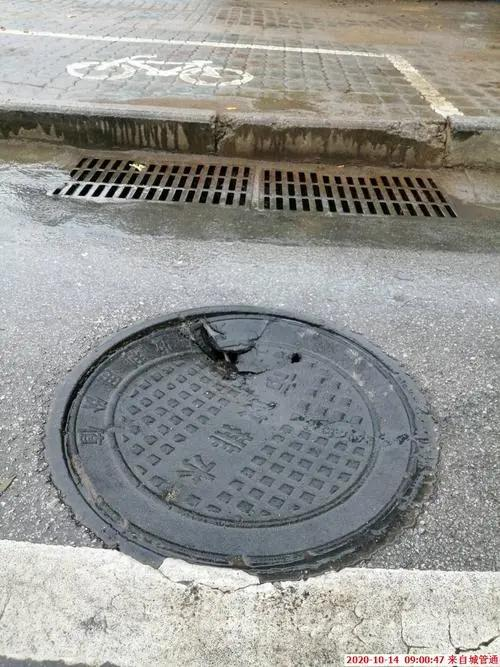wellcover: (58, 278, 447, 573)
